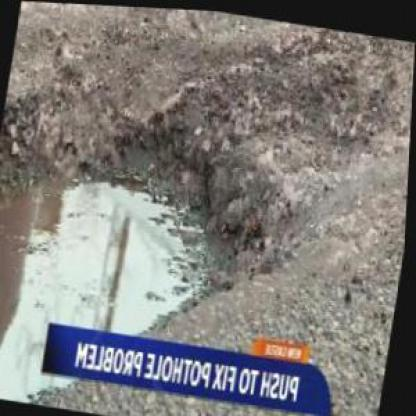pothole: (0, 59, 324, 414)
